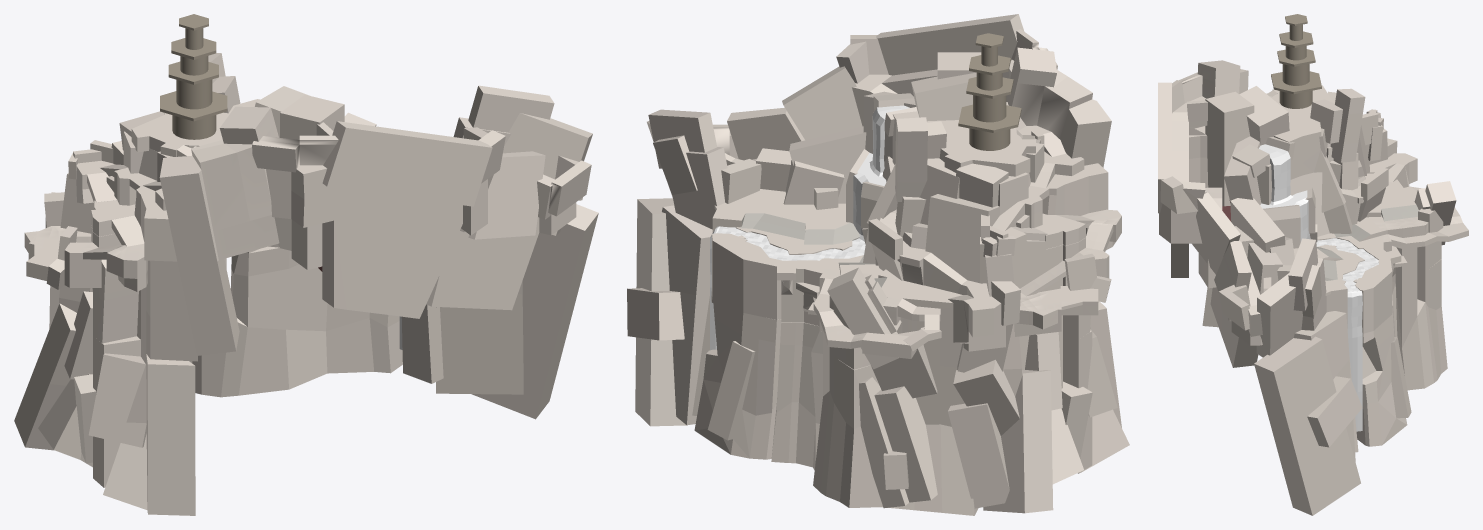
File: Peak_DeadEnd.fbx
3 views of the same model, side by side, from view 1: azimuth 30°, elevation 25°; view 2: azimuth 150°, elevation 25°; view 3: azimuth 270°, elevation 25° (orthographic). The views are drawn at different scales.
Parts seen in each view (by area): view 1: BulkMain, Path_UnderSide, BulkEntranceLow, wall_Backest, Spike_TopRight, BulkEntrance, Path_Unerpass.007, Path_EntranceLower, Temple, Path_EntranceHigher, Wall_BackWaterfall, Flats_MountainTop (+5 smaller); view 2: BulkMain, BulkEntranceLow, Flats_LowNear, wall_Backest, Wall_BackWaterfall, RockCluster_Central, Flats_LowFar, Path_Mid, Spike_TopRight, Path_EntranceHigher, Path_Unerpass.007, Path_EntranceLower (+12 smaller); view 3: BulkMain, Wall_BackWaterfall, Path_UnderSide, Flats_LowNear, wall_Backest, Path_Unerpass.007, Flats_MountainTop, WaterFall, Temple, RockCluster_TopSpike, Path_Mid, Flats_LowFar (+7 smaller).
Boxes of the visible parts, box(x1,y1,x2,y2) form: BulkMain: box(189, 204, 598, 419); Path_UnderSide: box(252, 122, 576, 318); BulkEntranceLow: box(14, 286, 195, 515); wall_Backest: box(322, 121, 591, 239); Spike_TopRight: box(159, 106, 279, 355); BulkEntrance: box(59, 226, 197, 361); Path_Unerpass.007: box(453, 85, 592, 235); Path_EntranceLower: box(24, 215, 147, 291); Temple: box(160, 14, 227, 139); Path_EntranceHigher: box(76, 145, 192, 261); Wall_BackWaterfall: box(255, 86, 436, 307); Flats_MountainTop: box(131, 99, 259, 181); BulkMain: box(627, 198, 978, 515); BulkEntranceLow: box(948, 301, 1129, 513); Flats_LowNear: box(712, 233, 962, 369); wall_Backest: box(713, 14, 1024, 160); Wall_BackWaterfall: box(725, 52, 981, 223); RockCluster_Central: box(895, 158, 1028, 283); Flats_LowFar: box(712, 159, 859, 254); Path_Mid: box(863, 209, 1085, 351); Spike_TopRight: box(1006, 47, 1111, 167); Path_EntranceHigher: box(992, 125, 1108, 272); Path_Unerpass.007: box(647, 109, 727, 229); Path_EntranceLower: box(1014, 209, 1121, 336); BulkMain: box(1254, 259, 1447, 515); Wall_BackWaterfall: box(1205, 86, 1300, 294); Path_UnderSide: box(1159, 72, 1407, 367); Flats_LowNear: box(1317, 179, 1468, 333); wall_Backest: box(1158, 82, 1262, 336); Path_Unerpass.007: box(1256, 238, 1326, 357); Flats_MountainTop: box(1266, 85, 1345, 236); WaterFall: box(1259, 144, 1362, 431); Temple: box(1271, 14, 1321, 108); RockCluster_TopSpike: box(1310, 88, 1365, 162); Path_Mid: box(1323, 153, 1417, 233); Flats_LowFar: box(1277, 244, 1364, 328).
Size of the model in its own units: 7695 by 6632 by 5149.
